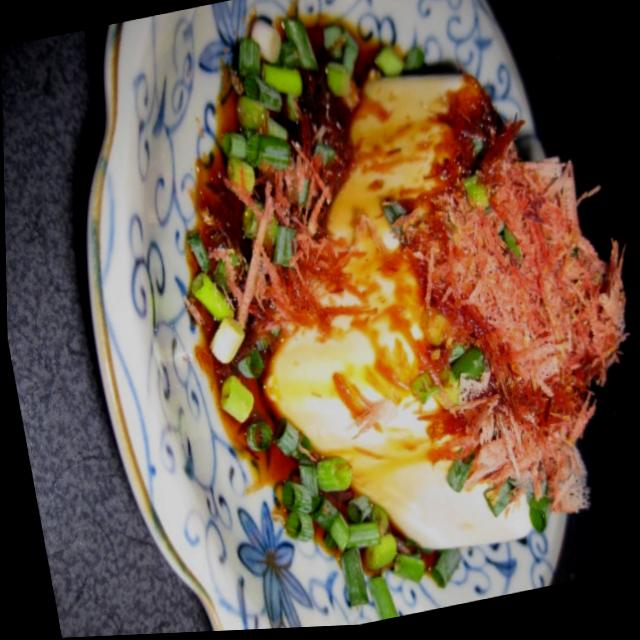豆腐料理: (155, 0, 640, 624)
